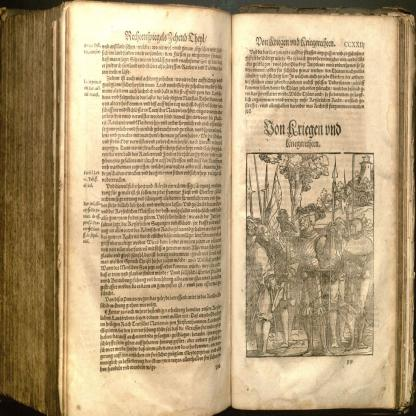book: (50, 11, 398, 380)
